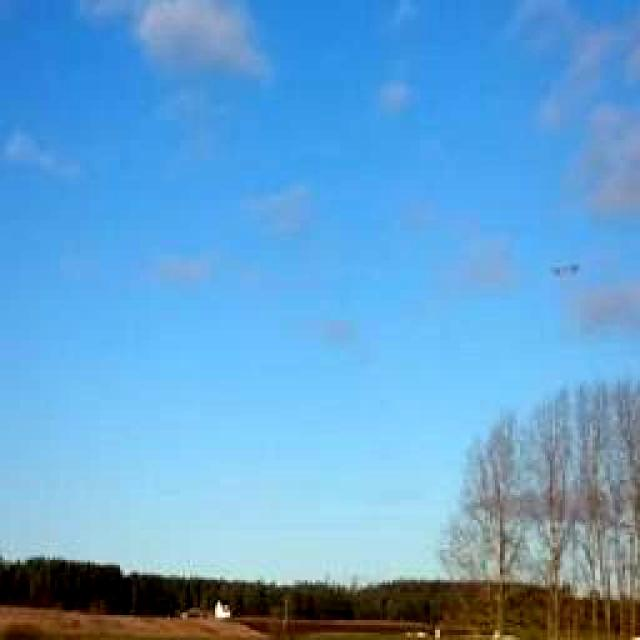bird: (539, 244, 596, 299)
